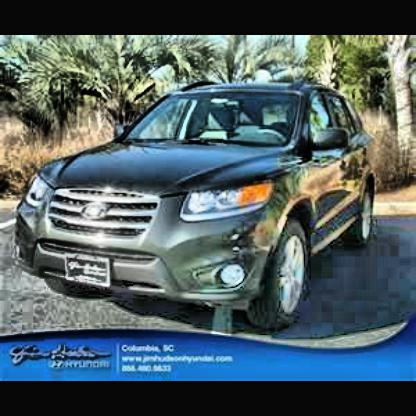Hyundai Santa Fe SUV 2012: (10, 68, 398, 356)
